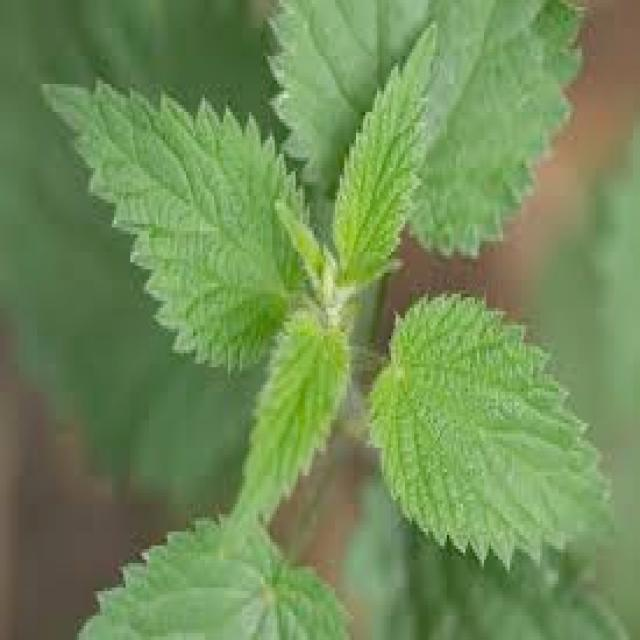Stinging Nettle: (49, 49, 640, 591)
